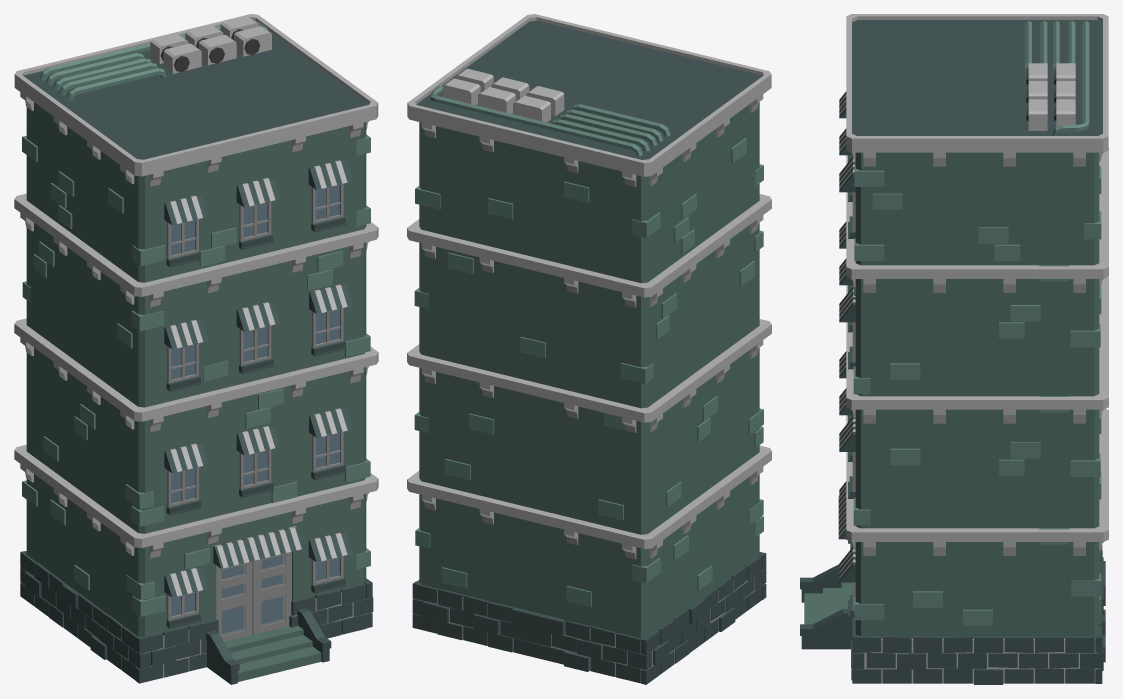
File: 4Story_Mat.gltf
3 views of the same model, side by side, from view 1: azimuth 30°, elevation 25°; view 2: azimuth 150°, elevation 25°; view 3: azimuth 270°, elevation 25° (orthographic). The views are drawn at different scales.
Visible parts, largest first — view 1: o 4Story_Mat_Cube.024; view 2: o 4Story_Mat_Cube.024; view 3: o 4Story_Mat_Cube.024.
Part boxes in pixels (x1,y1,x2,y2): o 4Story_Mat_Cube.024: (14,14,378,684); o 4Story_Mat_Cube.024: (407,14,771,684); o 4Story_Mat_Cube.024: (800,14,1108,684).
Bounding box in the file's own units: 2.42 × 5.09 × 2.53.
